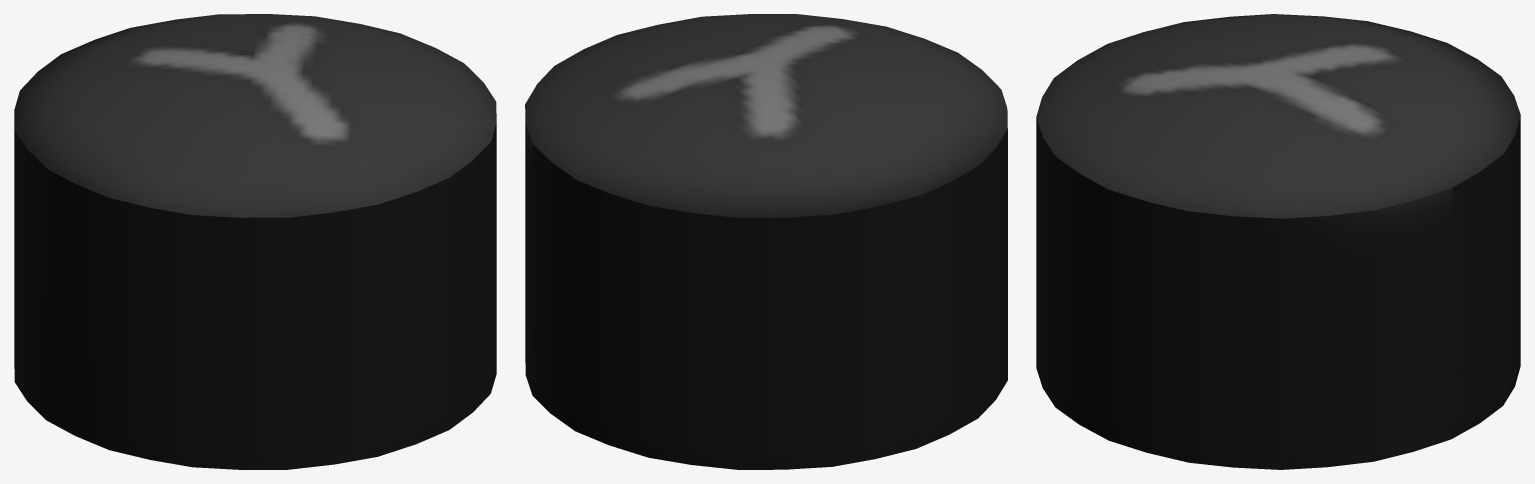
3 renders of one model, left to right at view 1: azimuth 30°, elevation 25°; view 2: azimuth 150°, elevation 25°; view 3: azimuth 270°, elevation 25°, orthographic.
Visible parts, largest first — view 1: P_Controller_L:LY; view 2: P_Controller_L:LY; view 3: P_Controller_L:LY.
Part boxes in pixels (x1=…): P_Controller_L:LY: x1=14, y1=14, x2=496, y2=469; P_Controller_L:LY: x1=525, y1=14, x2=1007, y2=469; P_Controller_L:LY: x1=1036, y1=14, x2=1520, y2=469.
Size of the model in its own units: 0.00967 by 0.0066 by 0.00967.
Materials: 1 (1 with a texture image).
